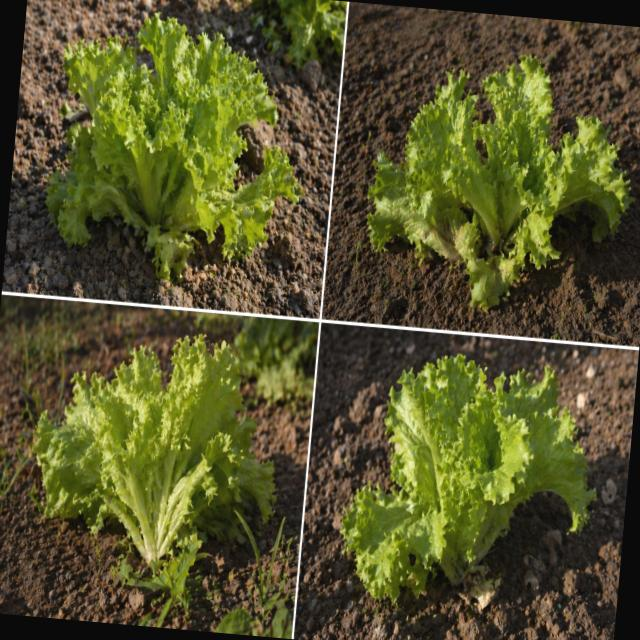inmadura: (46, 12, 300, 279), (367, 55, 633, 309), (341, 354, 596, 603), (33, 334, 276, 563)
